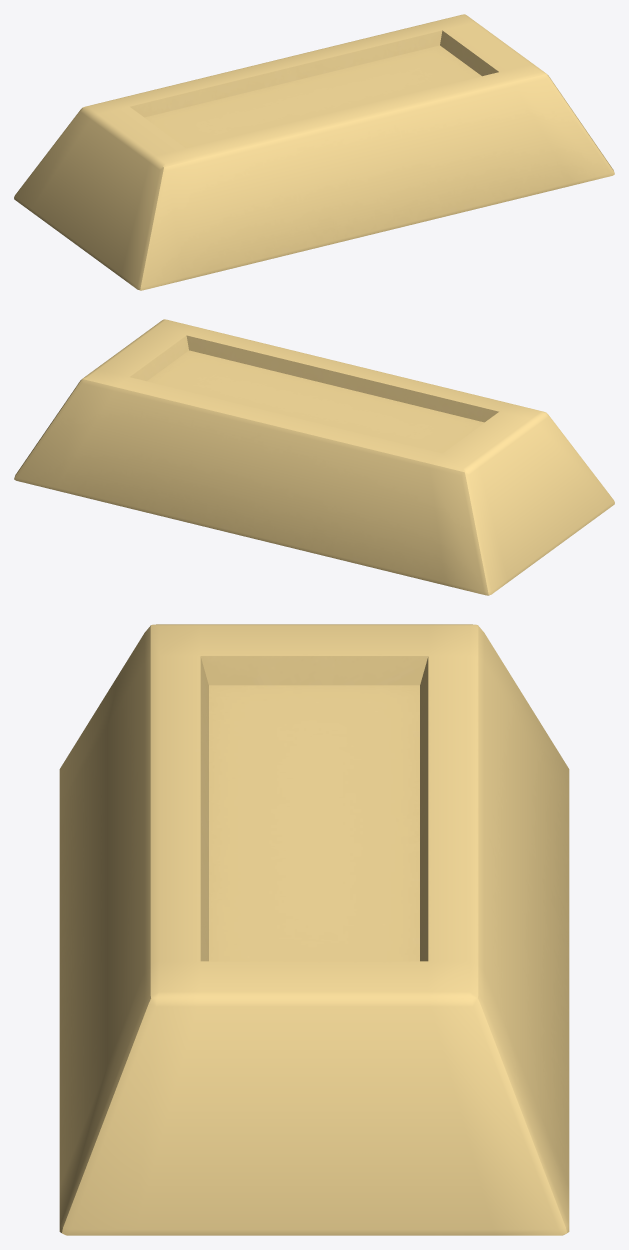
File: gold_bar_source.glb
The picture shows the model from 3 angles, top to bottom: view 1: azimuth 30°, elevation 25°; view 2: azimuth 150°, elevation 25°; view 3: azimuth 270°, elevation 25°; orthographic projection. The views are drawn at different scales.
Parts seen in each view (by area): view 1: gold_bar; view 2: gold_bar; view 3: gold_bar.
Boxes of the visible parts, x1=… form: gold_bar: x1=14, y1=14, x2=614, y2=290; gold_bar: x1=14, y1=319, x2=614, y2=595; gold_bar: x1=59, y1=624, x2=569, y2=1235.
Bounding box in the file's own units: 0.26 × 0.0512 × 0.1203.
Materials: 1 (1 with a texture image).
